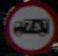Heavy Vehicles: (5, 5, 50, 46)
